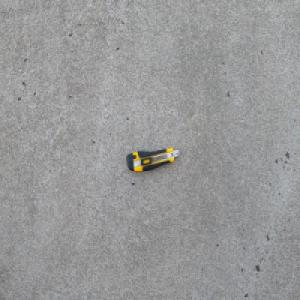Cutter: (125, 147, 179, 172)
